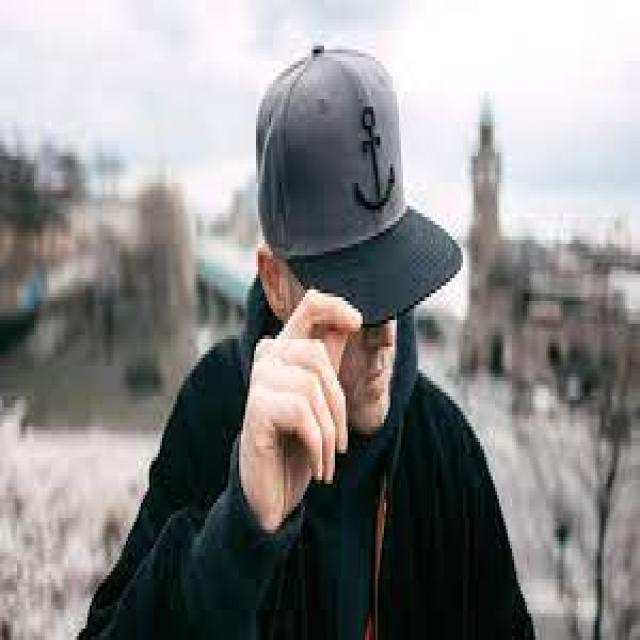cap: (239, 27, 476, 400)
